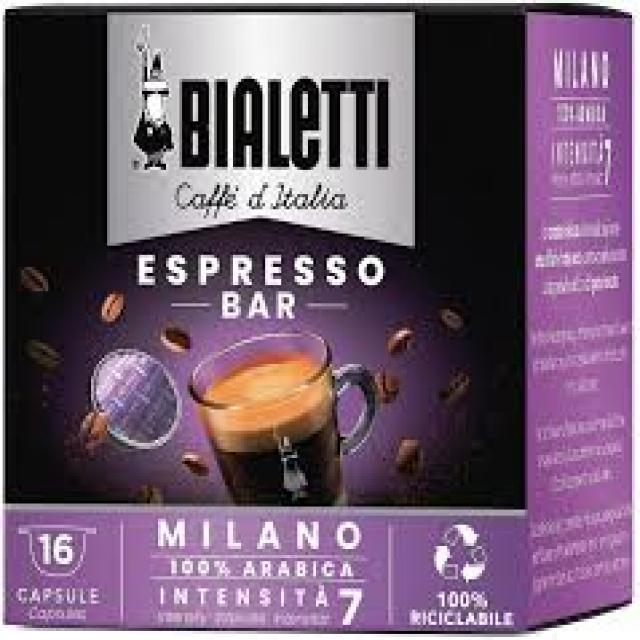Coffee: (5, 3, 635, 640)
